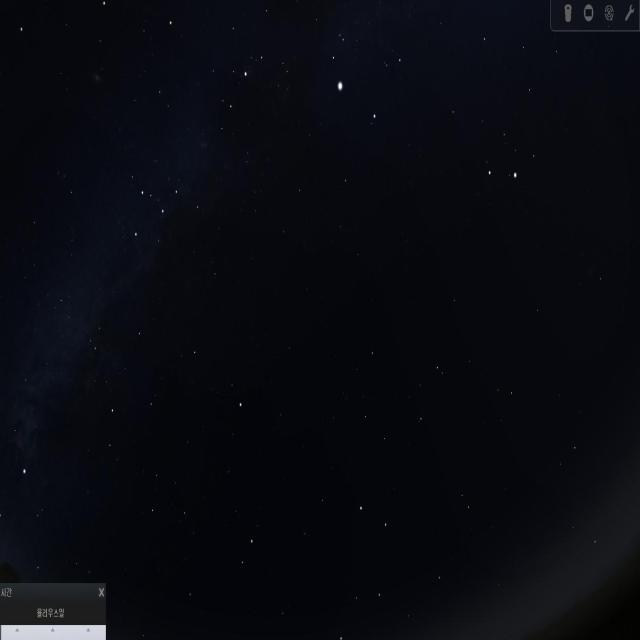cassiopeia: (125, 170, 202, 262)
